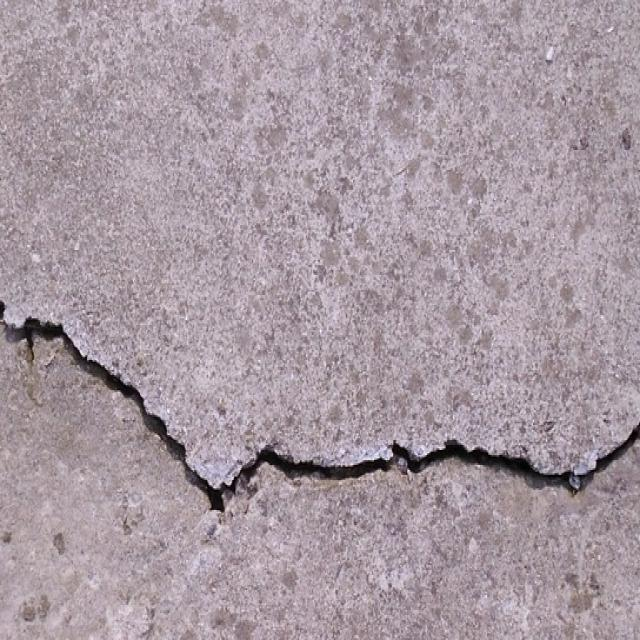crack: (2, 302, 228, 530), (229, 416, 639, 505)
